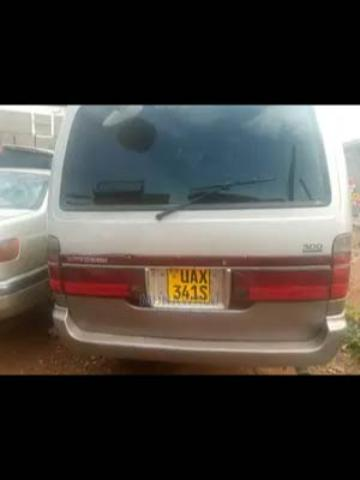van: (45, 105, 349, 368)
